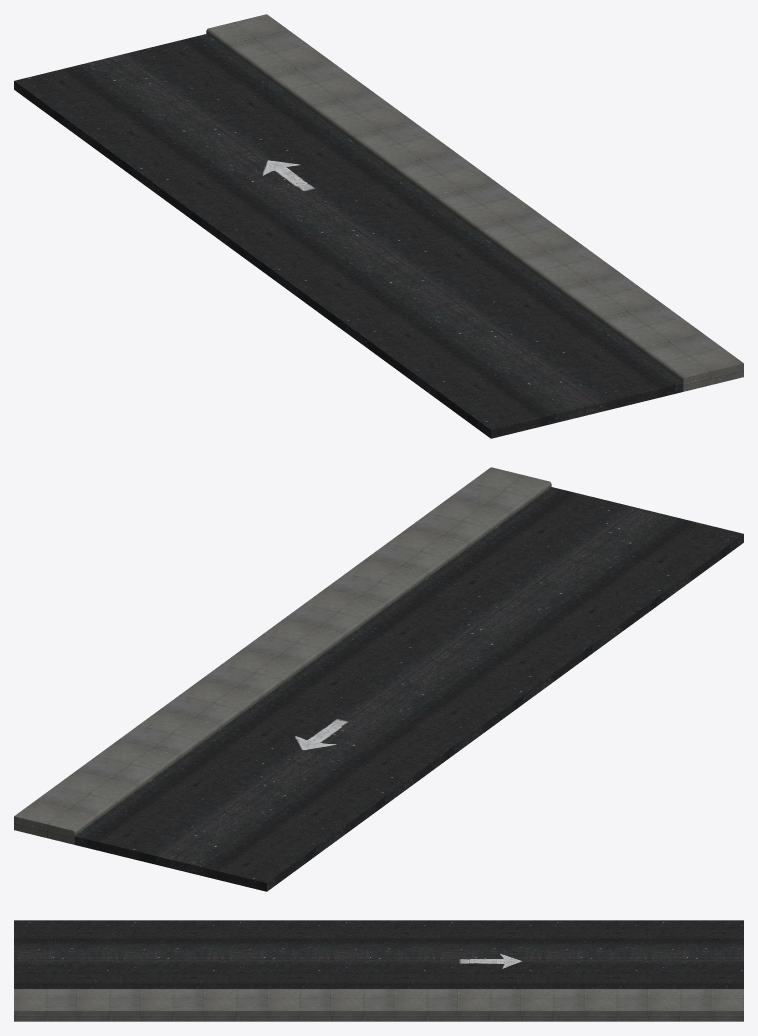
File: CALLE_CN_FLECHA1.fbx
3 renders of one model, top to bottom at view 1: azimuth 30°, elevation 25°; view 2: azimuth 150°, elevation 25°; view 3: azimuth 270°, elevation 25°, orthographic. The views are drawn at different scales.
Parts seen in each view (by area): view 1: Model; view 2: Model; view 3: Model.
Boxes of the visible parts, bbox=[...] form: Model: bbox=[14, 14, 743, 438]; Model: bbox=[14, 467, 743, 891]; Model: bbox=[14, 920, 743, 1021].
Size of the model in its own units: 10.57 by 0.55 by 34.53.
